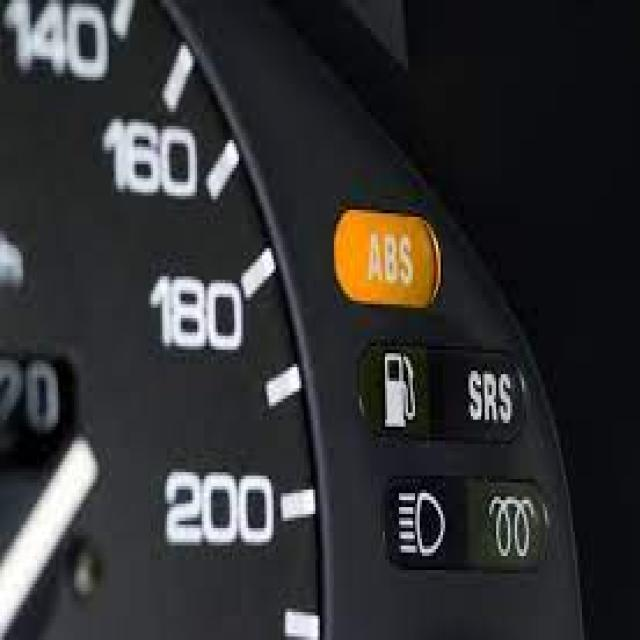kontrolka: (333, 203, 443, 311)
